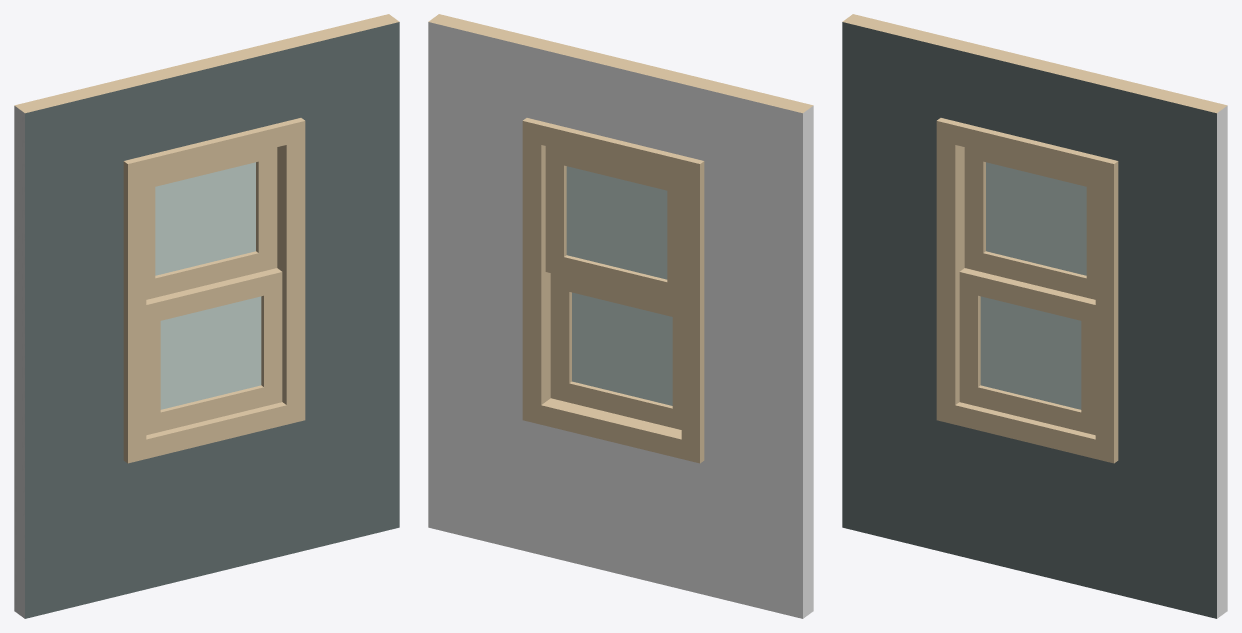
Rendered from wallWindowSlide.glb.
The picture shows the model from 3 angles, left to right: view 1: azimuth 30°, elevation 25°; view 2: azimuth 150°, elevation 25°; view 3: azimuth 330°, elevation 25°; orthographic projection.
Parts seen in each view (by area): view 1: wallWindowSlide; view 2: wallWindowSlide; view 3: wallWindowSlide.
Part boxes in pixels (x1=…): wallWindowSlide: x1=14, y1=14, x2=399, y2=618; wallWindowSlide: x1=428, y1=14, x2=813, y2=618; wallWindowSlide: x1=842, y1=14, x2=1227, y2=618.
Size of the model in its own units: 10 by 12.9 by 0.891.
